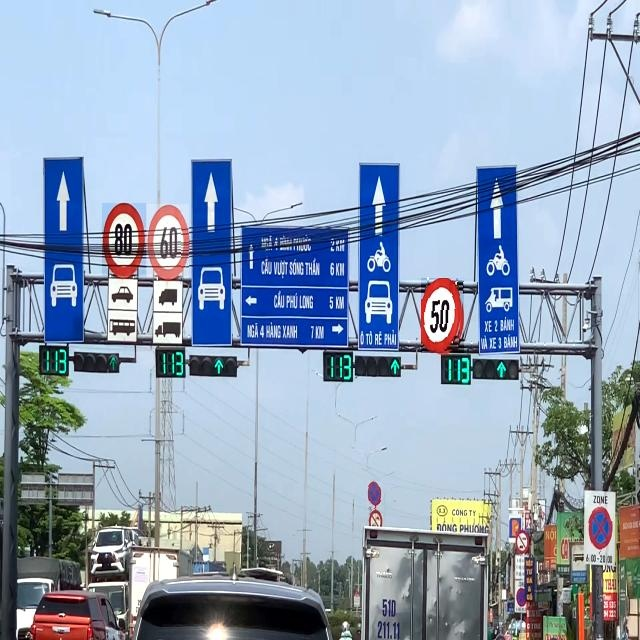bien_cam: (421, 278, 464, 353), (102, 203, 146, 276), (147, 204, 189, 278), (586, 506, 613, 553), (368, 482, 383, 509)
